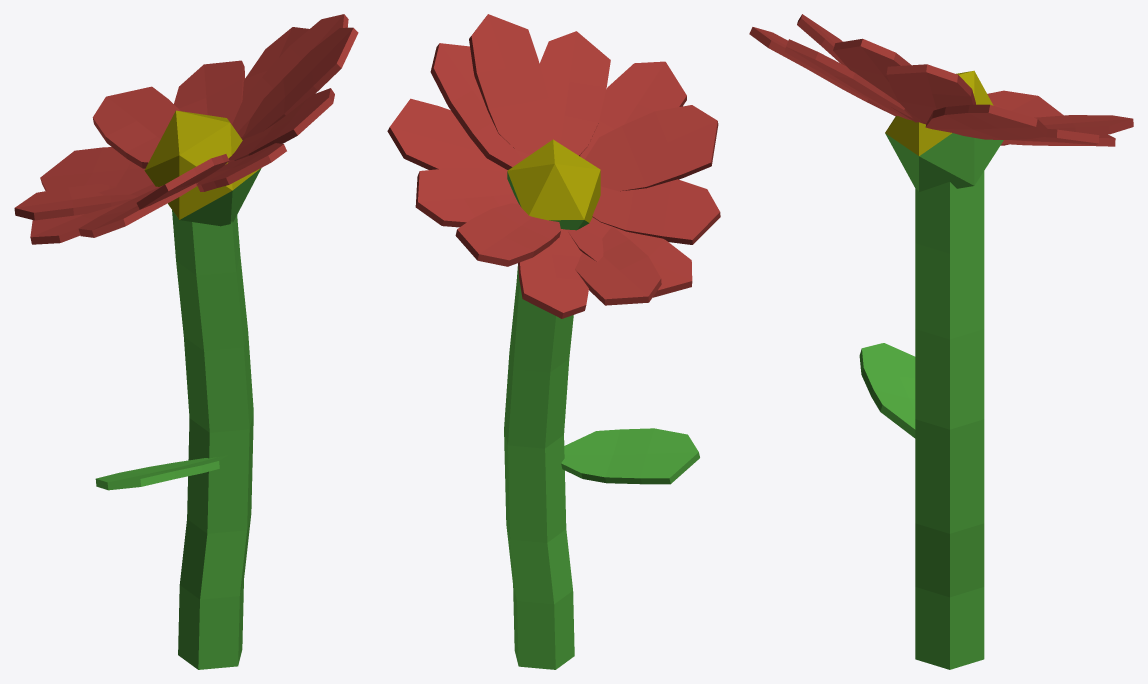
The model's file is FlowerRed.fbx.
3 views of the same model, side by side, from view 1: azimuth 30°, elevation 25°; view 2: azimuth 150°, elevation 25°; view 3: azimuth 270°, elevation 25° (orthographic). The views are drawn at different scales.
Visible parts, largest first — view 1: pCube13, pCube10, pPlatonic1; view 2: pCube10, pCube13, pPlatonic1; view 3: pCube13, pCube10, pPlatonic1.
Part boxes in pixels (<box>): pCube13: <box>95,210,253,669</box>; pCube10: <box>14,14,358,244</box>; pPlatonic1: <box>144,110,261,226</box>; pCube10: <box>387,14,720,318</box>; pCube13: <box>504,265,699,669</box>; pPlatonic1: <box>507,139,600,230</box>; pCube13: <box>859,171,984,669</box>; pCube10: <box>749,14,1133,146</box>; pPlatonic1: <box>885,70,1003,191</box>.
Bounding box in the file's own units: 1.49 × 3.05 × 1.59.
